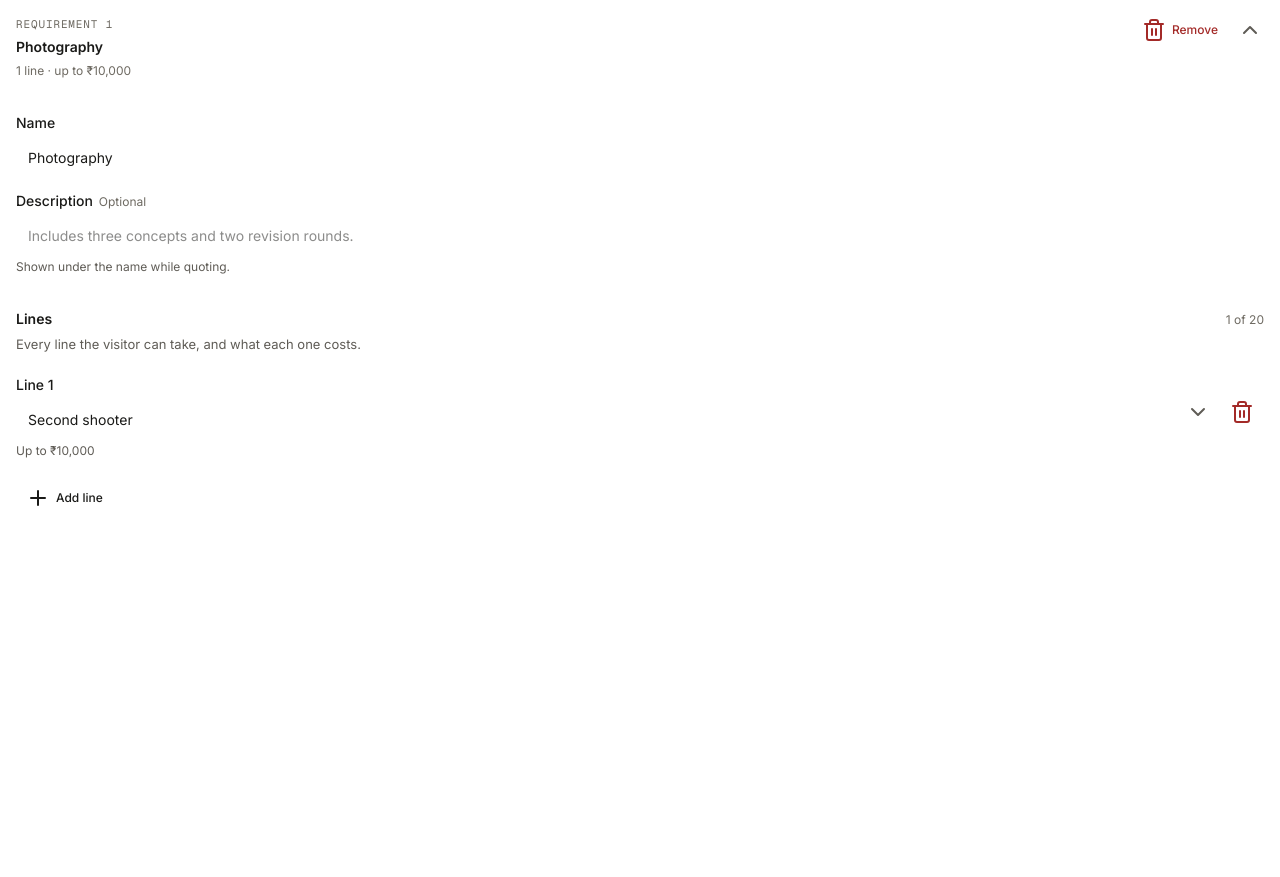
Scenario: ServiceEditor lines › collapses again
Click the button named "expand line 1": (1198, 412) [1184,398,1212,426]
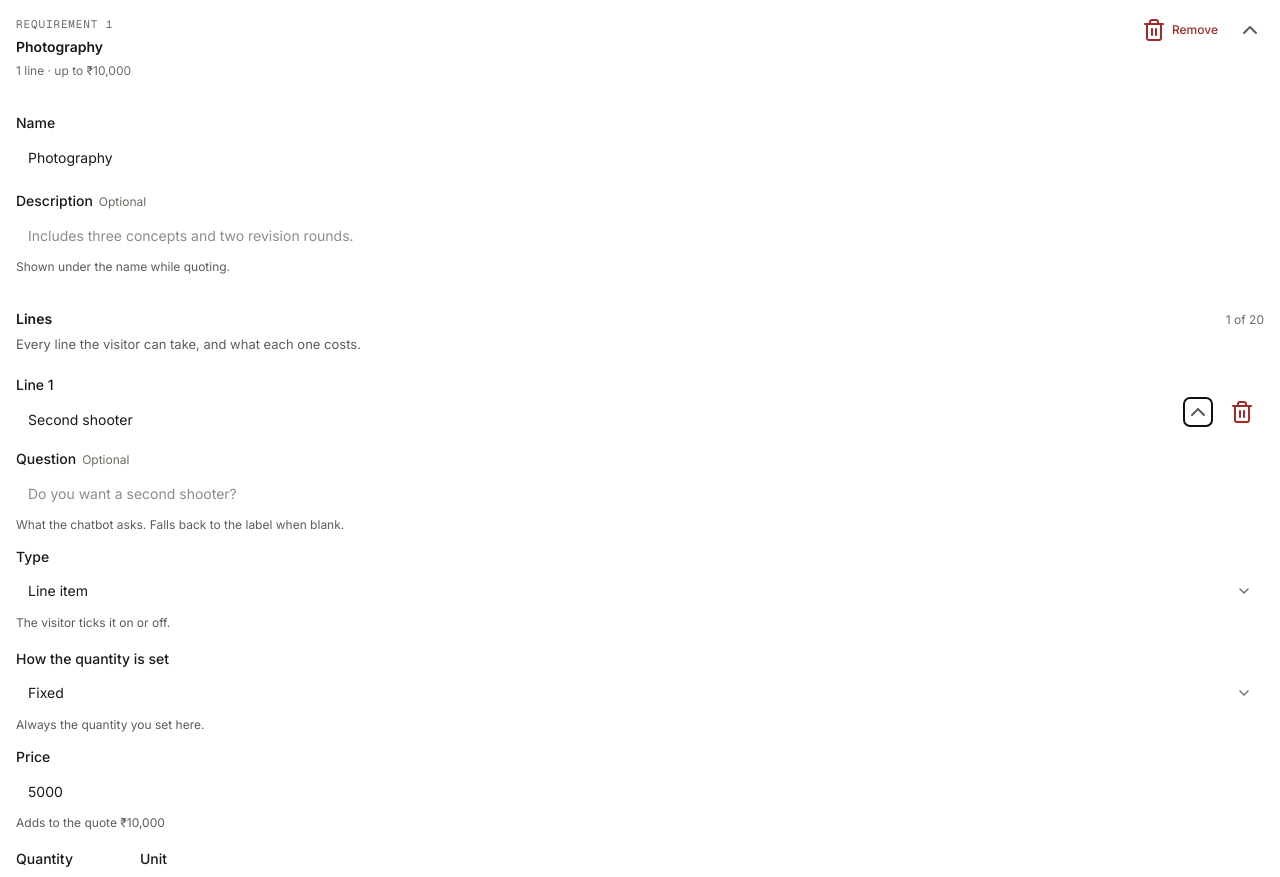
Click the button named "collapse line 1": (1198, 412) [1184,398,1212,426]
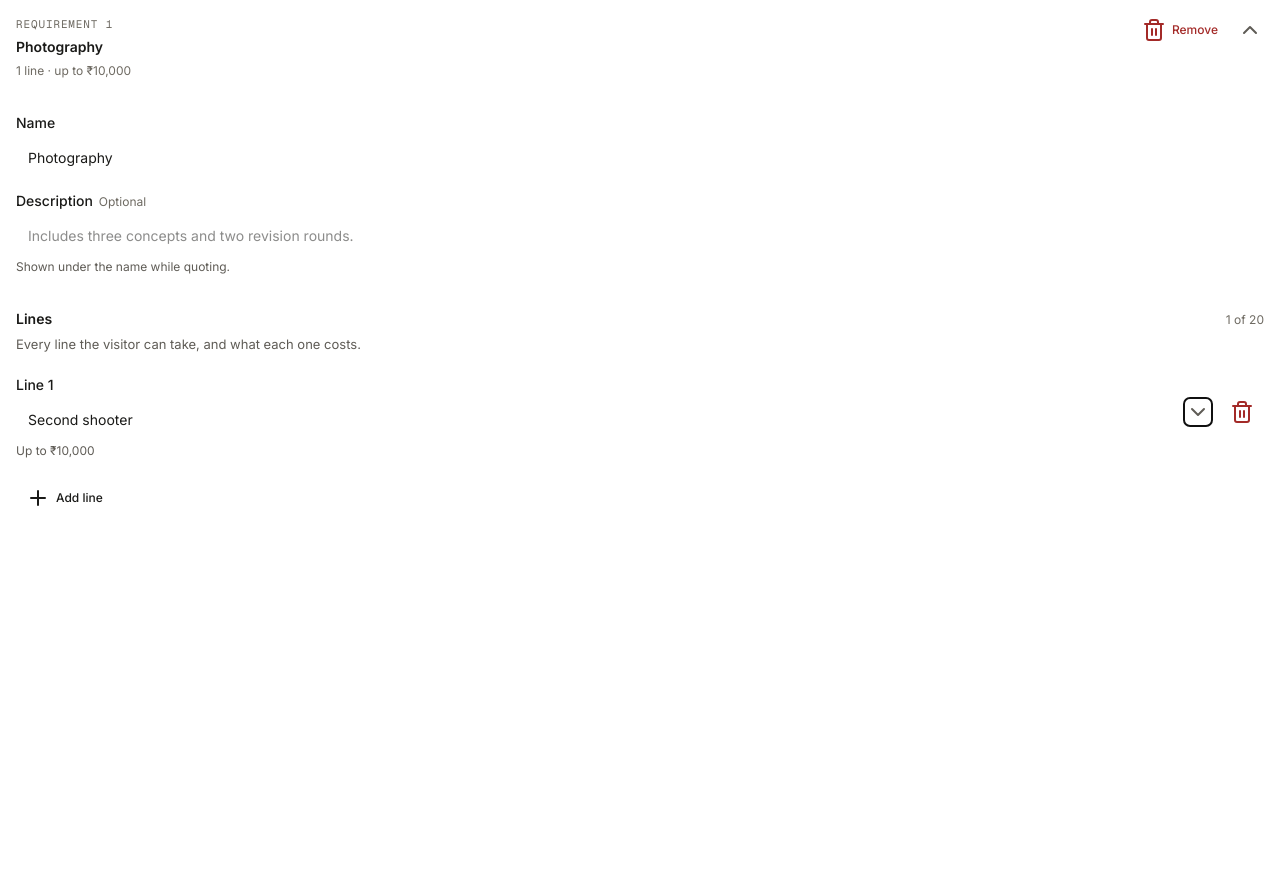
Now the label labelled "Question" is gone
